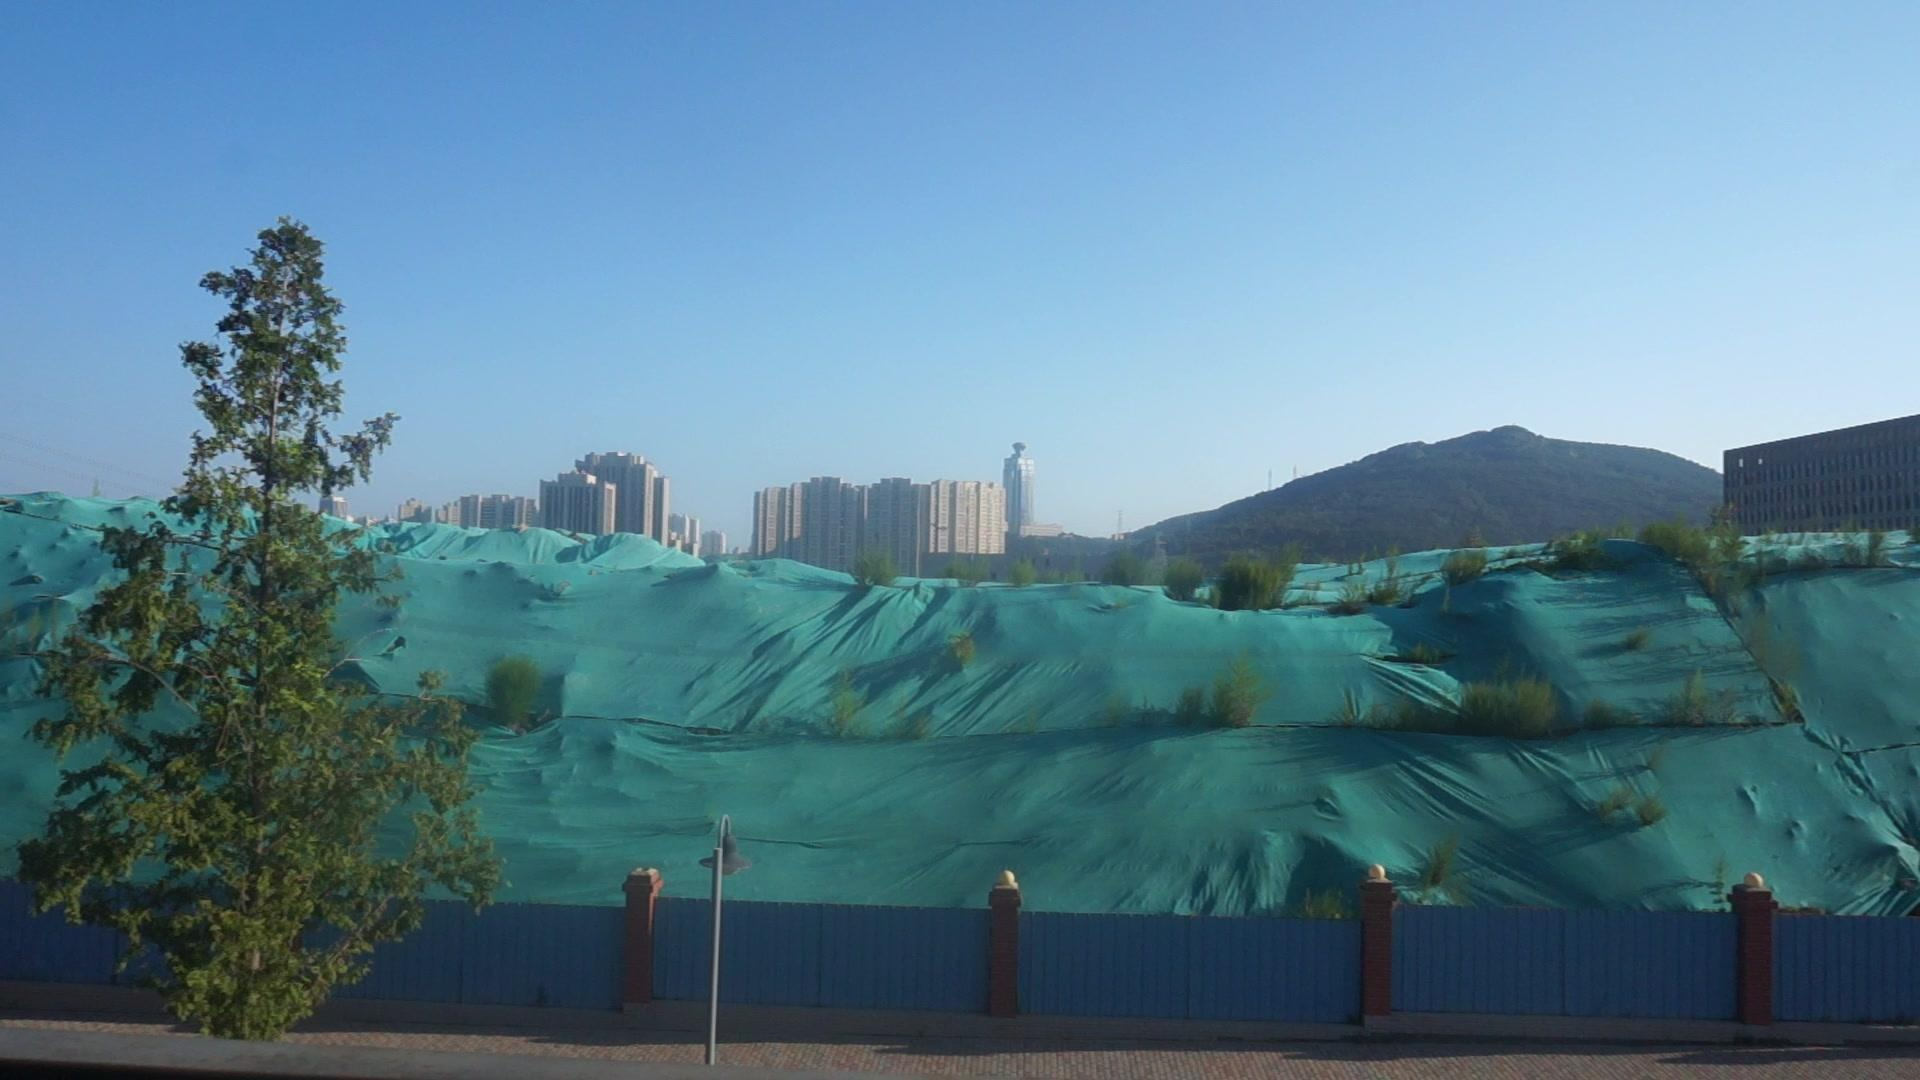UAV: (930, 524, 948, 531)
